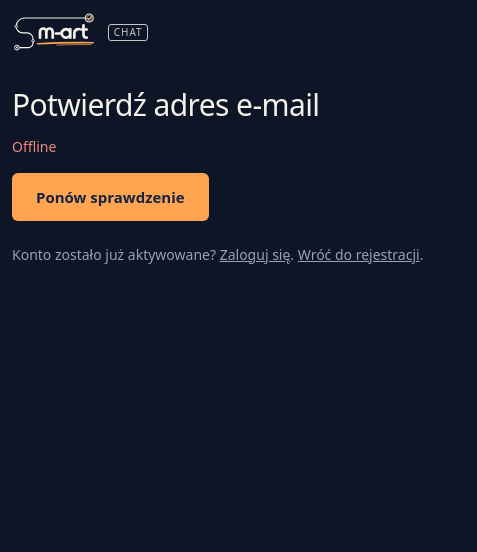
it: aktywacja › awaria podglądu pozwala ponowić bez utraty tokena
The width and height of the screenshot is (477, 552).
Click the button "Ponów sprawdzenie" at {"x": 110, "y": 197}, box [12,173,209,221]
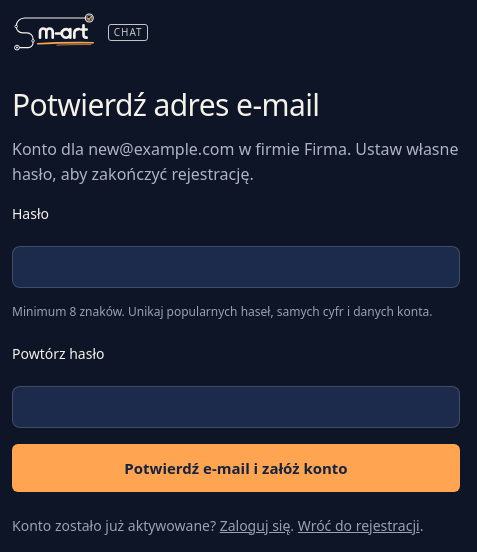
Result: the password field labelled "Hasło" is shown at [12,246,460,288]
